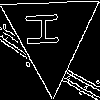H: (26, 9, 67, 48)
